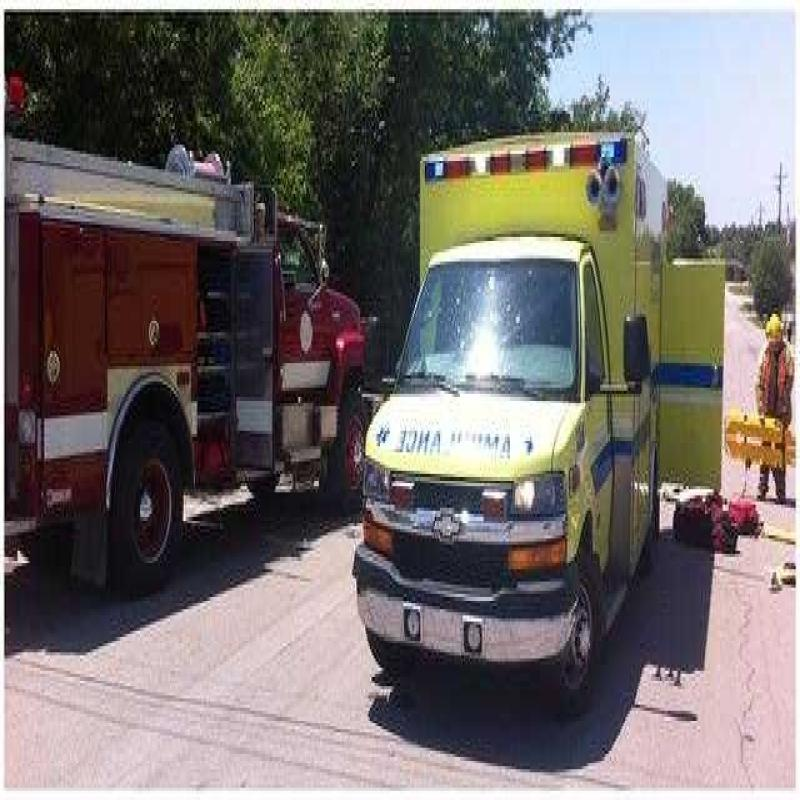AmbulanceSiren: (417, 132, 637, 183)
